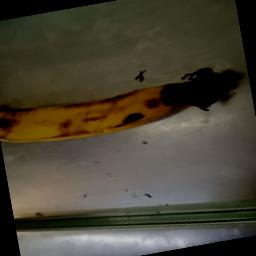Banana Unripe: (0, 69, 235, 144)
